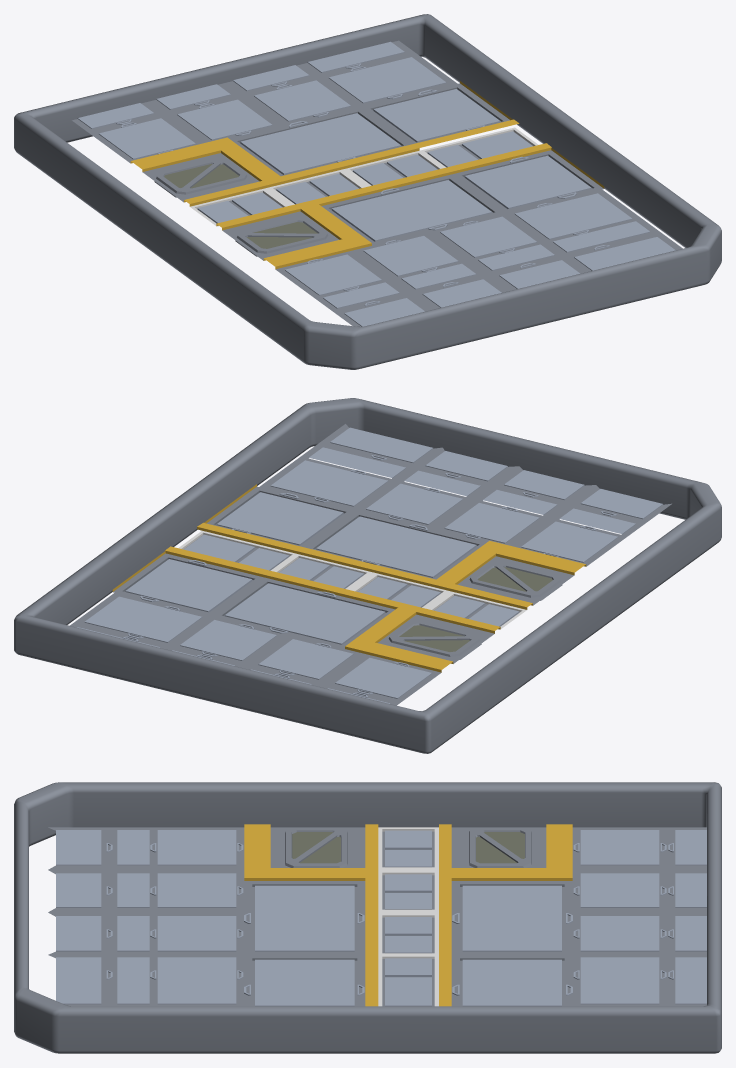
File: Level14_Ground.fbx
The picture shows the model from 3 angles, top to bottom: view 1: azimuth 30°, elevation 25°; view 2: azimuth 150°, elevation 25°; view 3: azimuth 270°, elevation 25°; orthographic projection. The views are drawn at different scales.
Visible parts, largest first — view 1: Border, pCube95 (×2), pCube100 (×4), pCube111, pCube113, pCube87 (×2), pCube112, pPlane1 (×2), pCube122; view 2: Border, pCube95 (×2), pCube100 (×3), pCube111, pCube113, pCube87 (×2), pCube112, pPlane1 (×2), pCube122; view 3: Border, pCube95 (×2), pCube100 (×4), pCube111, pCube113, pCube112, pCube87 (×2), pPlane1 (×2), pCube122.
Boxes of the visible parts, x1=… form: Border: x1=14, y1=14, x2=721, y2=369; pCube95 (×2): x1=184, y1=119, x2=643, y2=299; pCube100 (×4): x1=72, y1=40, x2=512, y2=202; pCube111: x1=335, y1=257, x2=585, y2=326; pCube113: x1=317, y1=244, x2=563, y2=312; pCube87 (×2): x1=154, y1=158, x2=328, y2=256; pCube112: x1=565, y1=233, x2=682, y2=272; pPlane1 (×2): x1=164, y1=164, x2=317, y2=248; pCube122: x1=547, y1=220, x2=661, y2=256; Border: x1=14, y1=398, x2=721, y2=753; pCube95 (×2): x1=165, y1=456, x2=627, y2=633; pCube100 (×3): x1=73, y1=551, x2=494, y2=705; pCube111: x1=416, y1=447, x2=671, y2=523; pCube113: x1=398, y1=467, x2=645, y2=536; pCube87 (×2): x1=388, y1=561, x2=562, y2=659; pCube112: x1=319, y1=424, x2=441, y2=467; pPlane1 (×2): x1=399, y1=567, x2=552, y2=651; pCube122: x1=301, y1=443, x2=415, y2=480; Border: x1=14, y1=782, x2=721, y2=1053; pCube95 (×2): x1=149, y1=824, x2=451, y2=1006; pCube100 (×4): x1=451, y1=824, x2=706, y2=1006; pCube111: x1=48, y1=827, x2=109, y2=954; pCube113: x1=109, y1=827, x2=149, y2=954; pCube112: x1=48, y1=955, x2=109, y2=1006; pCube87 (×2): x1=285, y1=827, x2=531, y2=867; pPlane1 (×2): x1=292, y1=832, x2=524, y2=863; pCube122: x1=109, y1=955, x2=149, y2=1006.
Bounding box in the file's own units: 410 × 36.61 × 530.
